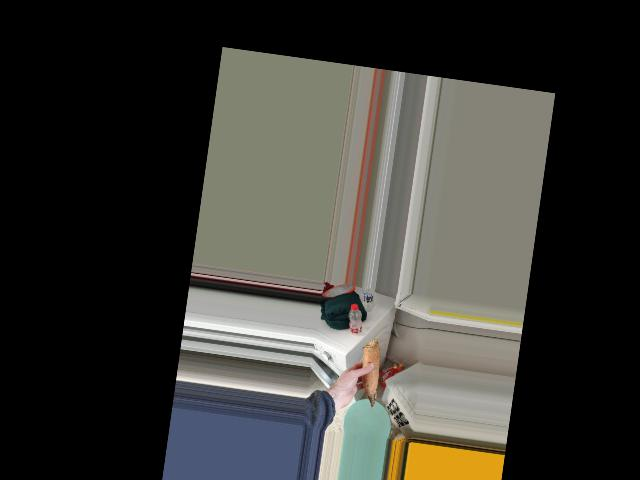sweet_potato: (356, 342, 383, 407)
